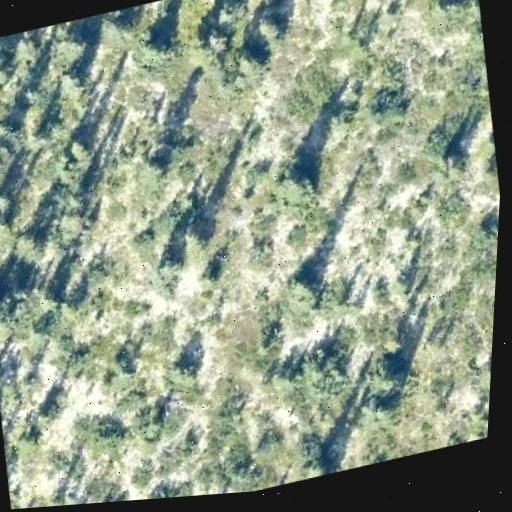tree-top: (268, 154, 328, 212), (276, 262, 330, 311), (41, 18, 94, 67), (362, 348, 410, 399), (182, 19, 231, 68), (149, 245, 191, 294), (135, 23, 178, 69), (247, 2, 288, 48), (57, 126, 97, 172), (140, 142, 180, 183), (168, 348, 207, 390), (9, 219, 48, 260), (190, 256, 231, 295), (93, 7, 134, 44), (231, 43, 266, 81), (439, 140, 474, 178), (429, 0, 473, 26), (7, 32, 39, 63), (303, 450, 335, 479), (471, 352, 492, 387)
